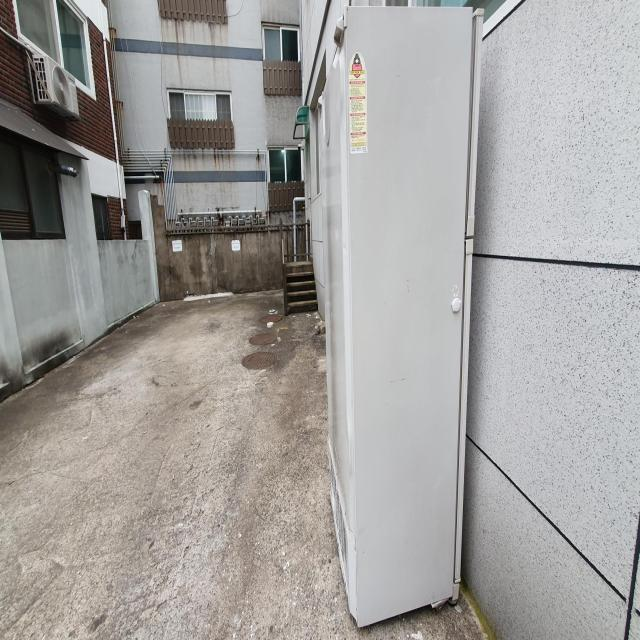refrigerator: (319, 0, 486, 629)
